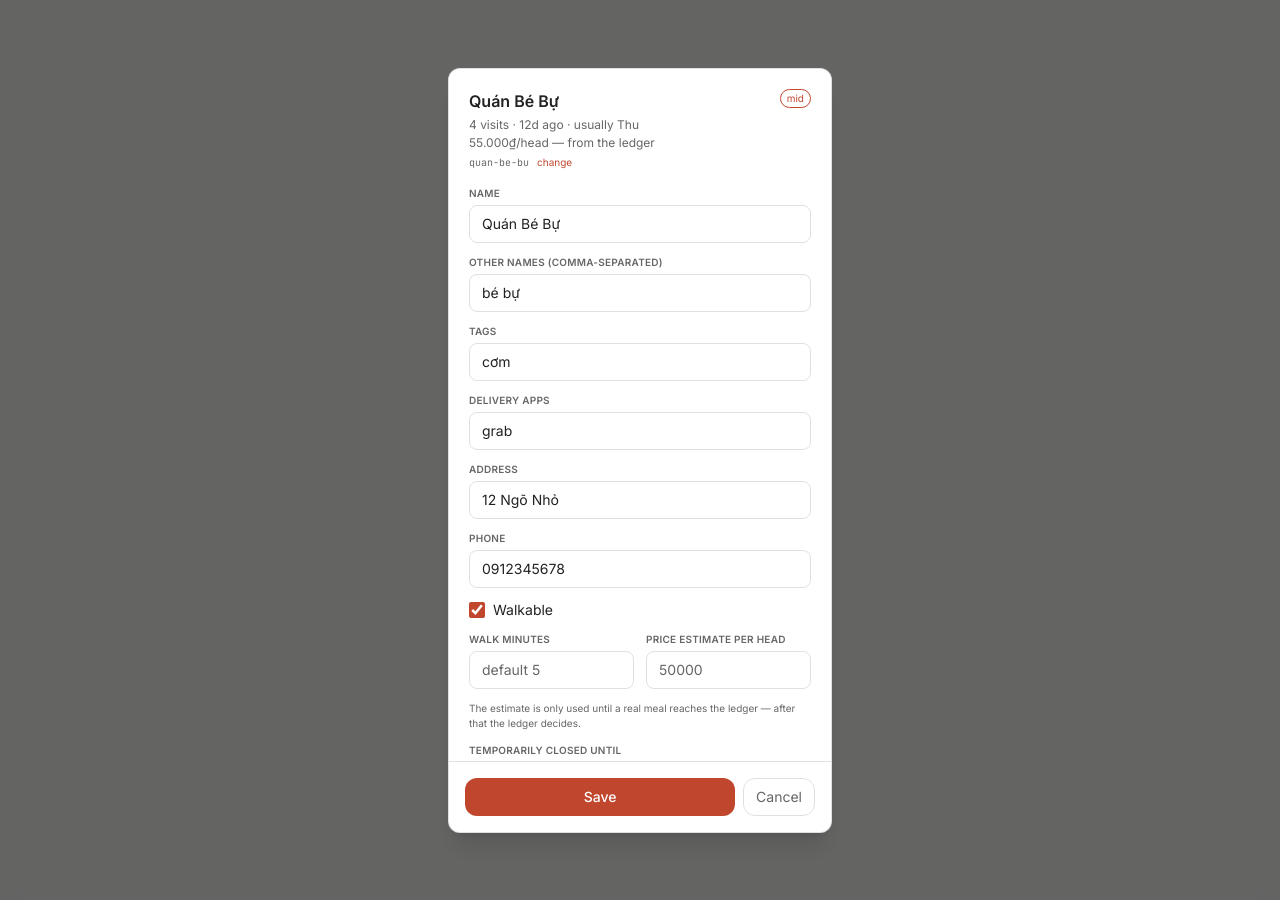
Test: PlaceDialog — changing the identifier › says what will move before it moves, in numbers
The width and height of the screenshot is (1280, 900).
Click the button "change". click: coordinates (555, 162)
box: [537,154,572,170]
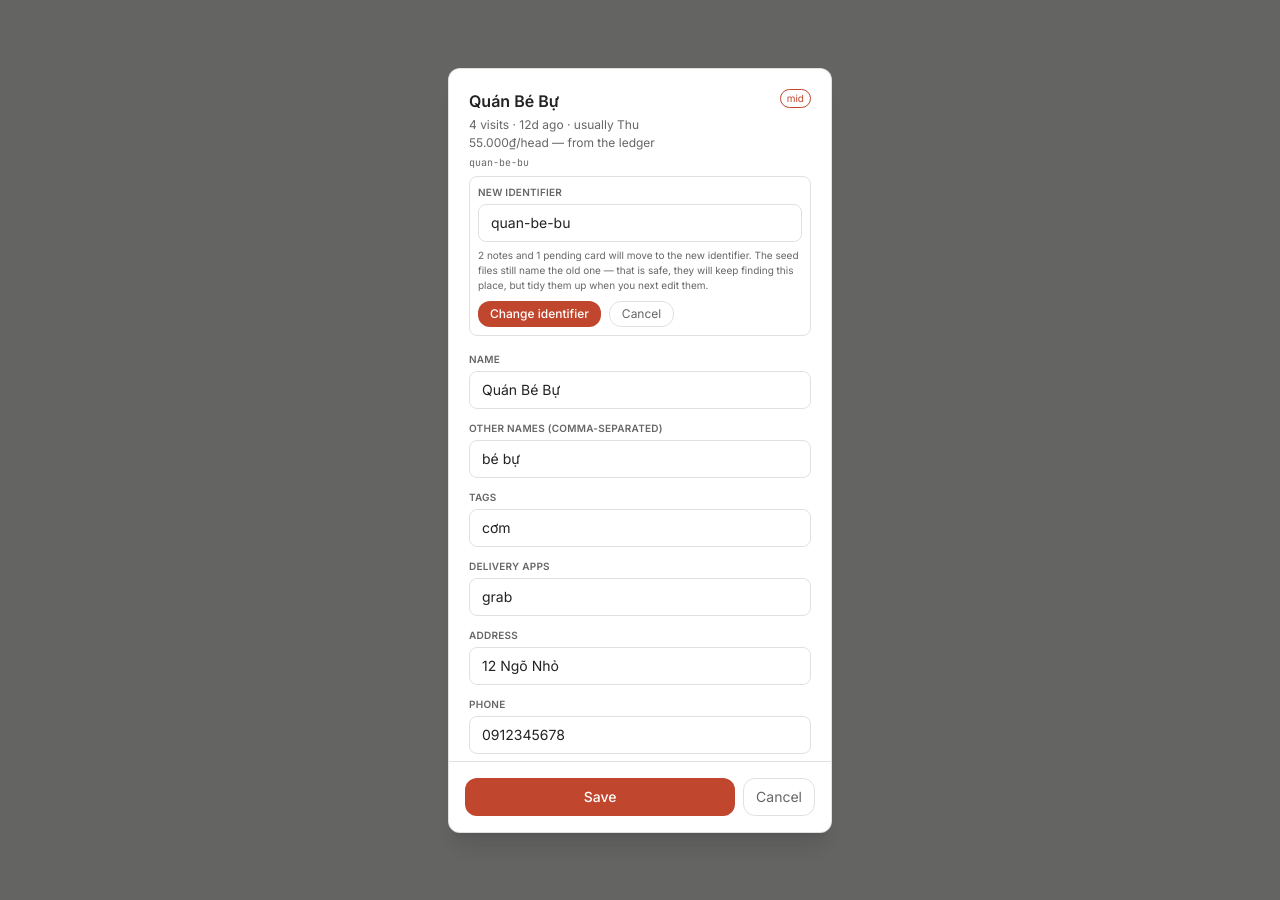
Now the text "2 notes and 1 pending card will move" is shown, box [478,248,802,292]
